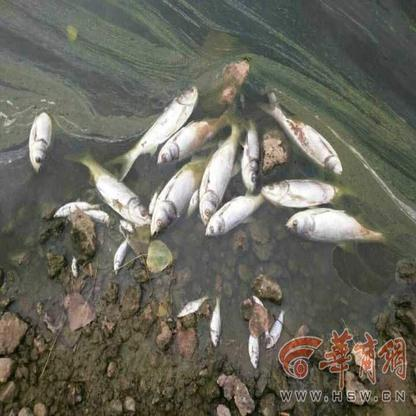deceased fish: (107, 82, 199, 183), (256, 90, 344, 173), (74, 150, 151, 227), (147, 155, 211, 238), (201, 121, 239, 227), (158, 109, 231, 162), (286, 208, 386, 246), (203, 190, 268, 237), (263, 180, 352, 207), (27, 110, 54, 173), (240, 122, 263, 189), (174, 290, 208, 322), (109, 237, 135, 274), (266, 308, 289, 349), (208, 297, 224, 348), (244, 327, 261, 370), (55, 202, 100, 217), (84, 209, 109, 226)
